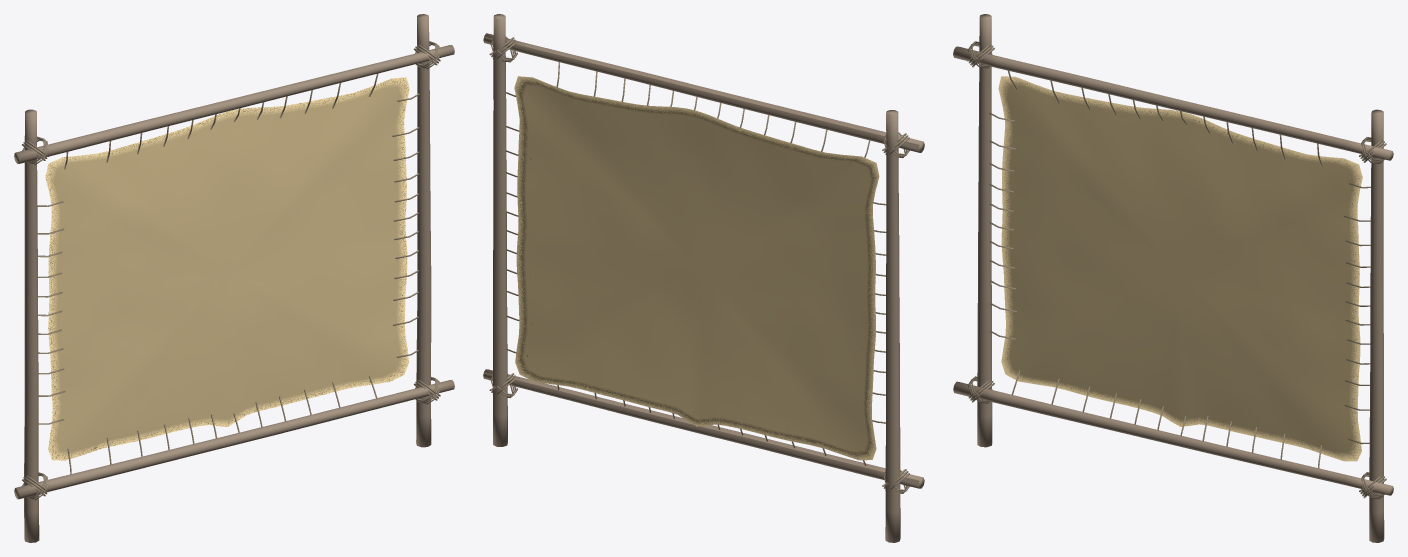
Rendered from Info Hide 4000 MID.fbx.
3 views of the same model, side by side, from view 1: azimuth 30°, elevation 25°; view 2: azimuth 150°, elevation 25°; view 3: azimuth 330°, elevation 25° (orthographic).
Visible parts, largest first — view 1: Hide_Mesh, Bar_Top_Mesh, Pole_L_Mesh, Bar_Bottom_Mesh, Pole_R_Mesh; view 2: Hide_Mesh, Pole_L_Mesh, Pole_R_Mesh, Bar_Top_Mesh, Bar_Bottom_Mesh; view 3: Hide_Mesh, Bar_Top_Mesh, Bar_Bottom_Mesh, Pole_R_Mesh, Pole_L_Mesh.
Part boxes in pixels (x1,y1,x2,y2): Hide_Mesh: [37, 73, 419, 474]; Bar_Top_Mesh: [14, 41, 454, 164]; Pole_L_Mesh: [24, 109, 39, 542]; Bar_Bottom_Mesh: [14, 377, 454, 500]; Pole_R_Mesh: [416, 14, 431, 447]; Hide_Mesh: [505, 62, 886, 465]; Pole_L_Mesh: [885, 110, 900, 542]; Pole_R_Mesh: [493, 14, 507, 446]; Bar_Top_Mesh: [483, 33, 924, 157]; Bar_Bottom_Mesh: [483, 369, 924, 493]; Hide_Mesh: [989, 70, 1370, 468]; Bar_Top_Mesh: [953, 41, 1393, 163]; Bar_Bottom_Mesh: [953, 376, 1393, 499]; Pole_R_Mesh: [1369, 109, 1384, 542]; Pole_L_Mesh: [977, 14, 992, 447].
Size of the model in its own units: 3.22 by 3.02 by 0.1913.
